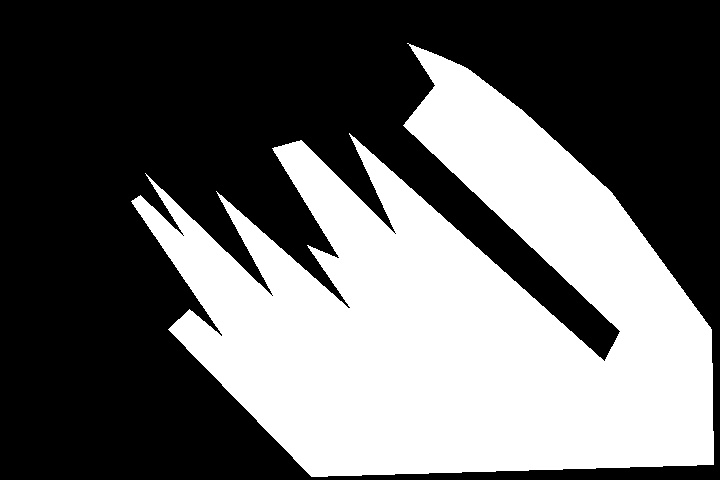Fire: (131, 173, 462, 382), (371, 68, 580, 224)
